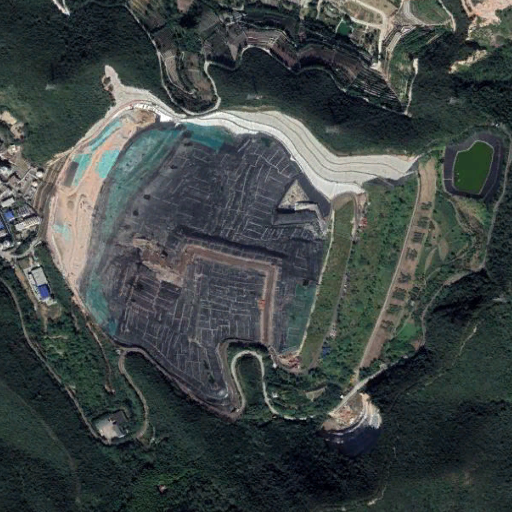lf: (46, 100, 418, 421)
